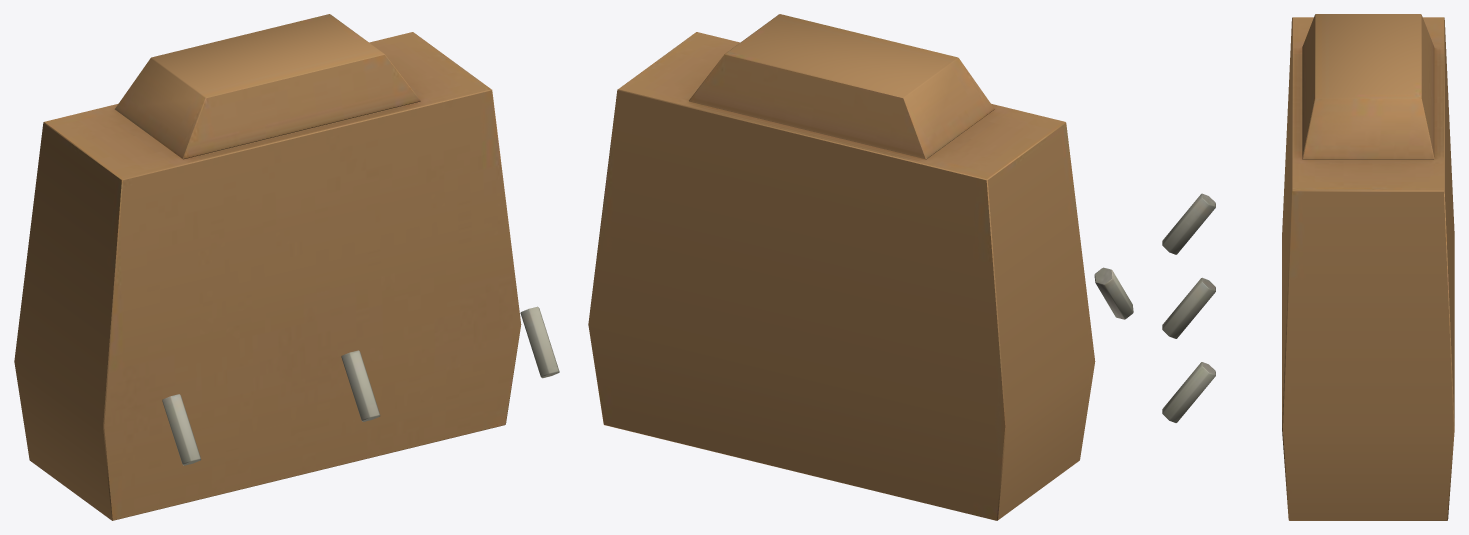
The model's file is IT_hide_vest.glb.
The picture shows the model from 3 angles, left to right: view 1: azimuth 30°, elevation 25°; view 2: azimuth 150°, elevation 25°; view 3: azimuth 270°, elevation 25°; orthographic projection. The views are drawn at different scales.
Parts seen in each view (by area): view 1: IT_hide_vest; view 2: IT_hide_vest; view 3: IT_hide_vest.
Part boxes in pixels (<box>): IT_hide_vest: <box>14,14,559,520</box>; IT_hide_vest: <box>588,14,1133,520</box>; IT_hide_vest: <box>1162,14,1454,520</box>.
Bounding box in the file's own units: 0.7 × 0.62 × 0.4404.
1 material, 1 textured.
